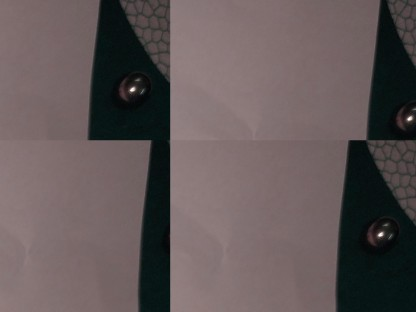ironball: (120, 66, 154, 110), (363, 213, 396, 254), (389, 99, 415, 134)
